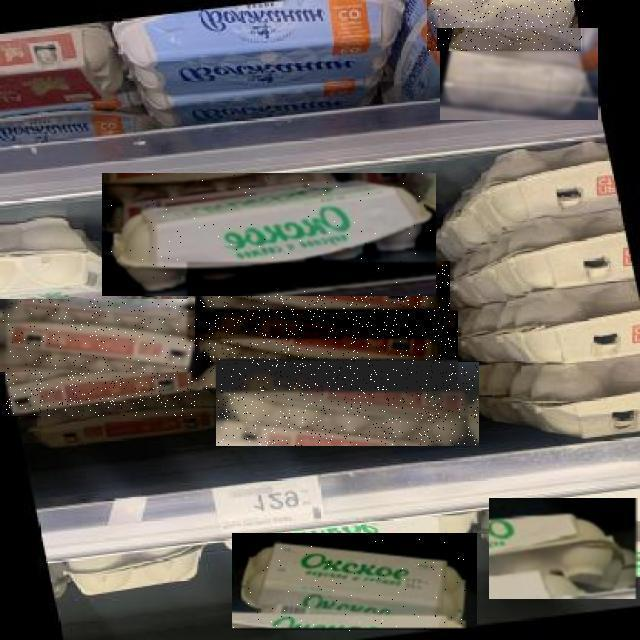Eggs: (468, 148, 640, 445), (102, 173, 436, 296), (127, 9, 400, 113), (232, 534, 477, 632), (216, 362, 479, 446), (194, 312, 458, 392), (187, 262, 450, 342), (490, 498, 640, 599), (6, 342, 204, 416), (440, 28, 598, 120), (0, 299, 195, 372), (0, 33, 123, 133), (6, 213, 98, 300), (428, 0, 584, 51)
